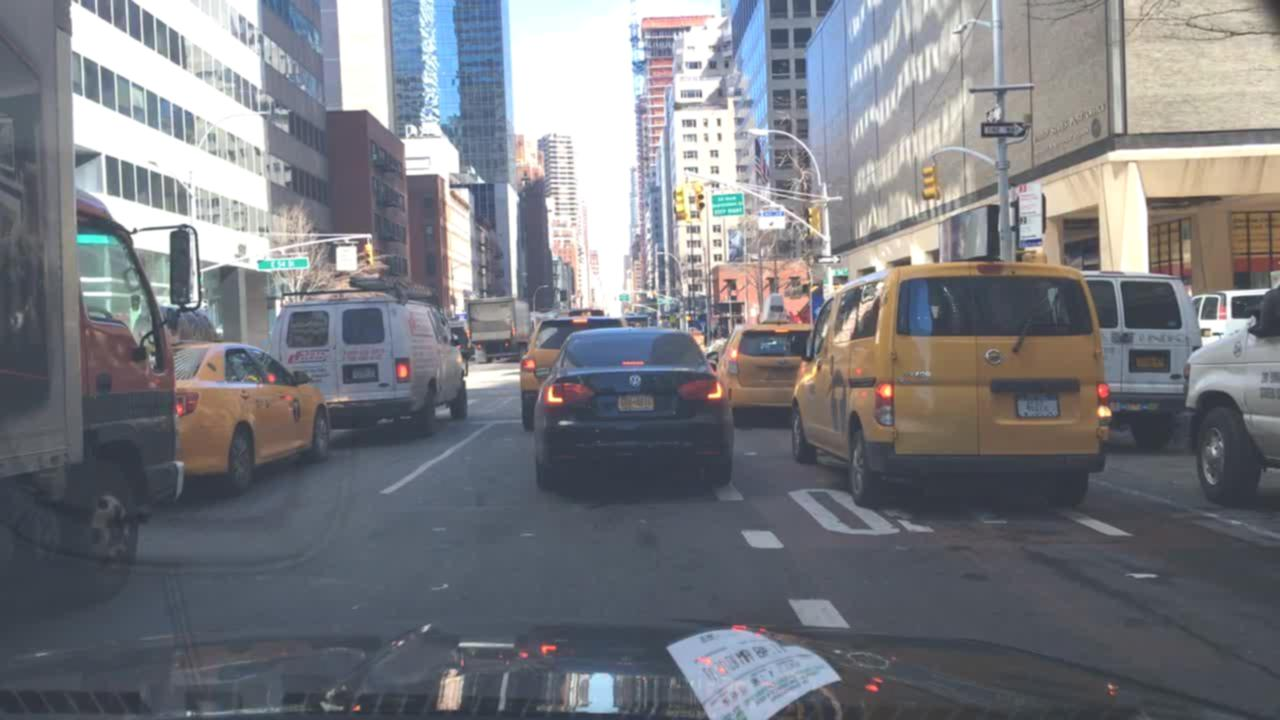Volkswagen: (626, 370, 644, 392)
